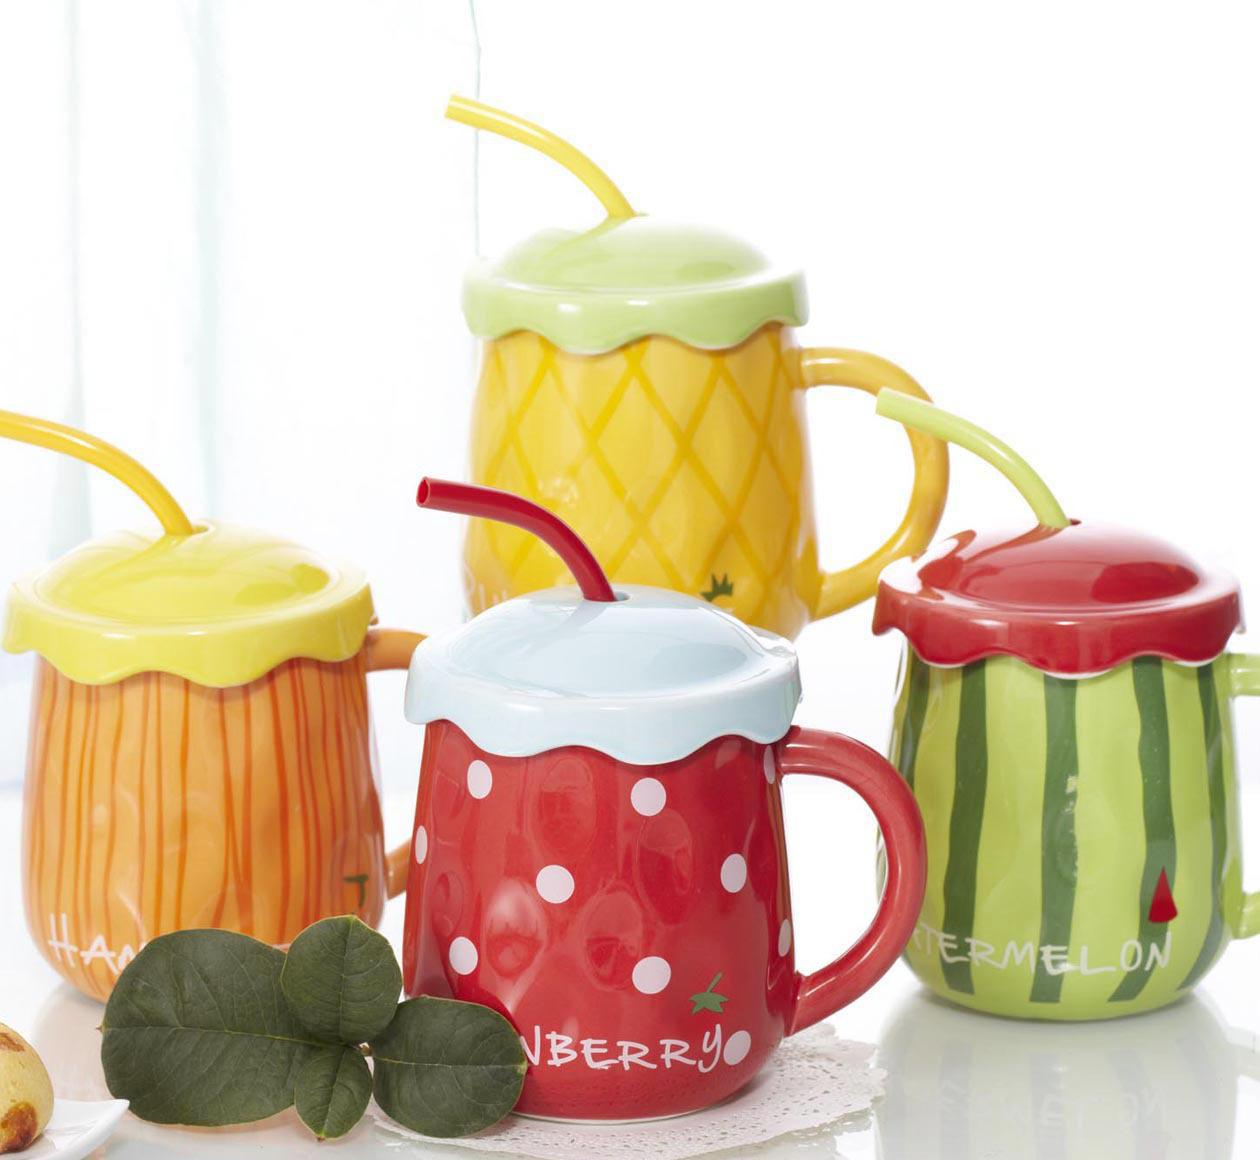cup: (396, 579, 933, 1128), (3, 515, 463, 1011), (452, 209, 956, 653), (869, 518, 1260, 1026)
